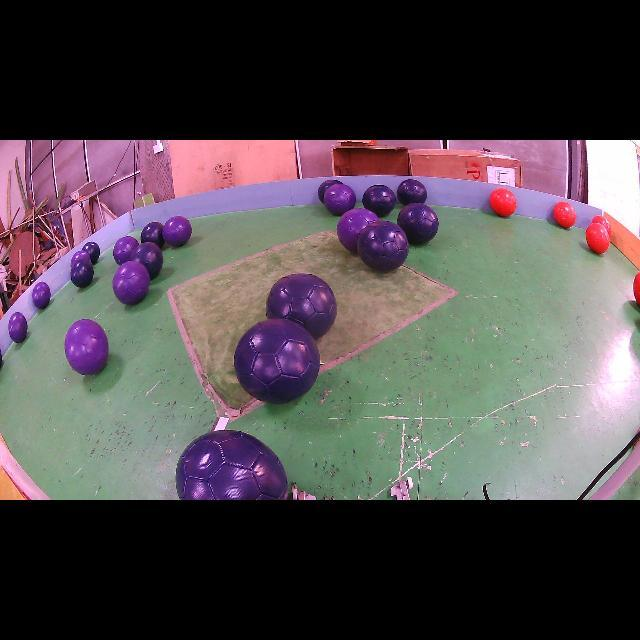B: (175, 430, 288, 500), (234, 319, 320, 404), (265, 274, 338, 340), (356, 220, 409, 271), (398, 202, 439, 244), (130, 242, 164, 278), (362, 185, 396, 218), (396, 179, 428, 205), (140, 221, 165, 249), (70, 259, 94, 288), (318, 179, 342, 202), (82, 241, 100, 265)
P: (65, 319, 109, 375), (336, 208, 379, 252), (112, 261, 150, 305), (324, 184, 356, 215), (162, 216, 191, 246), (114, 236, 139, 265), (9, 312, 28, 342), (32, 281, 51, 309), (70, 250, 91, 269)
R: (586, 222, 610, 254), (490, 188, 516, 216), (554, 201, 576, 228), (592, 215, 611, 236), (634, 272, 640, 305)
